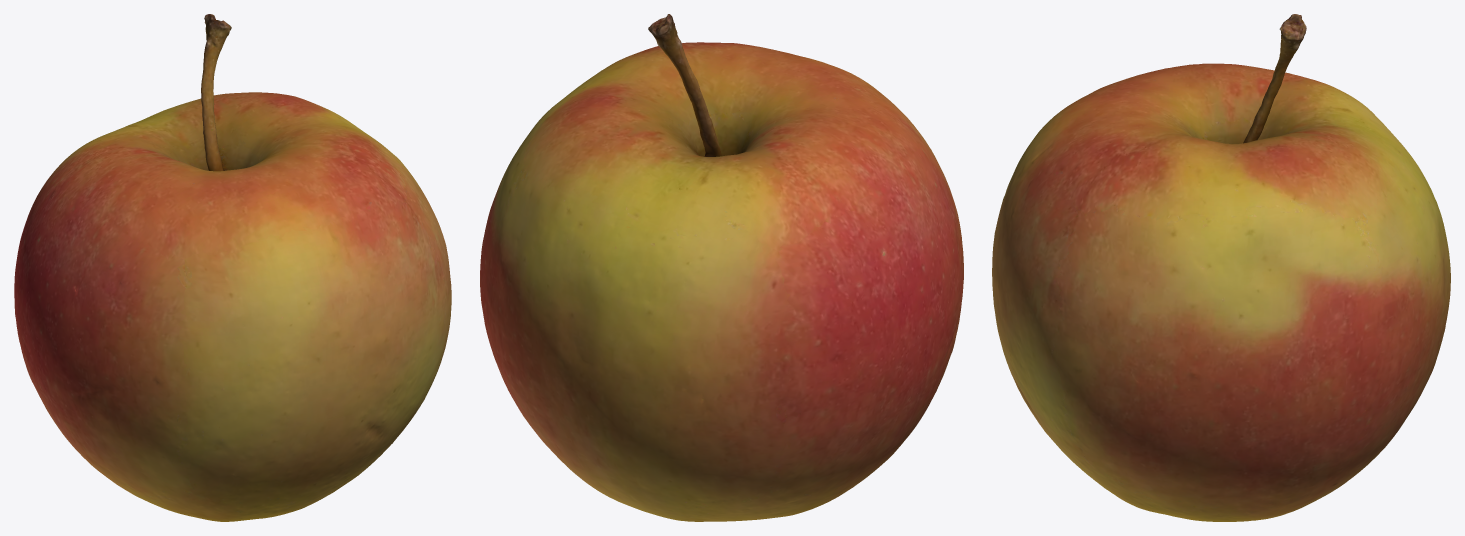
The model's file is apple2.0.glb.
3 renders of one model, left to right at view 1: azimuth 30°, elevation 25°; view 2: azimuth 150°, elevation 25°; view 3: azimuth 270°, elevation 25°, orthographic. The views are drawn at different scales.
Parts seen in each view (by area): view 1: Sketchfab Model; view 2: Sketchfab Model; view 3: Sketchfab Model.
Part boxes in pixels (<box>): Sketchfab Model: <box>14,14,451,521</box>; Sketchfab Model: <box>480,14,963,521</box>; Sketchfab Model: <box>992,14,1450,521</box>.
Bounding box in the file's own units: 21.61 × 24.88 × 21.45.
1 material, 1 textured.
